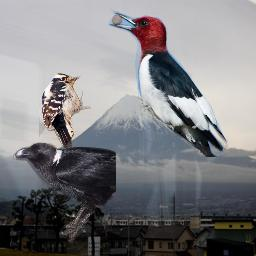Crow: (13, 142, 116, 243)
Woodpecker: (108, 9, 230, 157), (39, 72, 91, 150)
